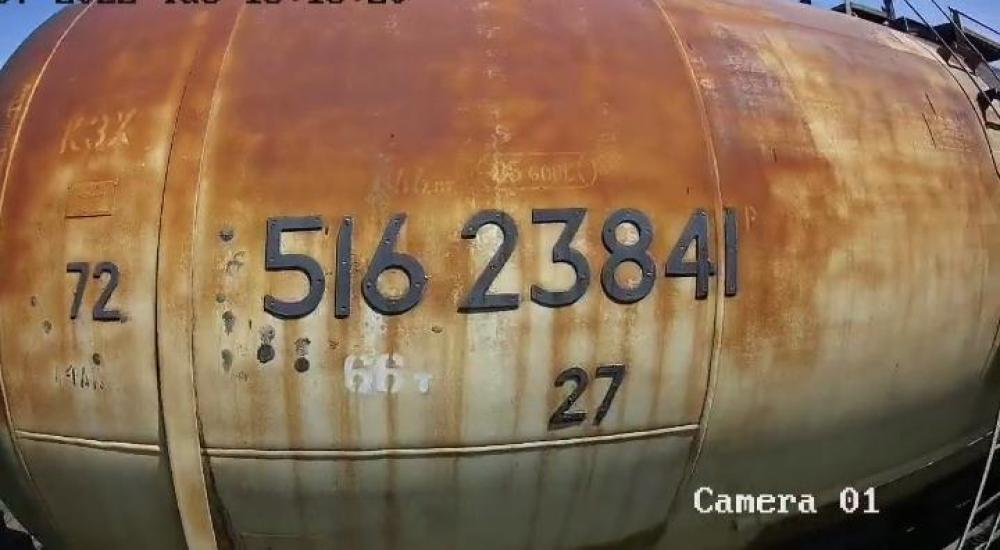Wagon-number: (254, 199, 754, 326)
